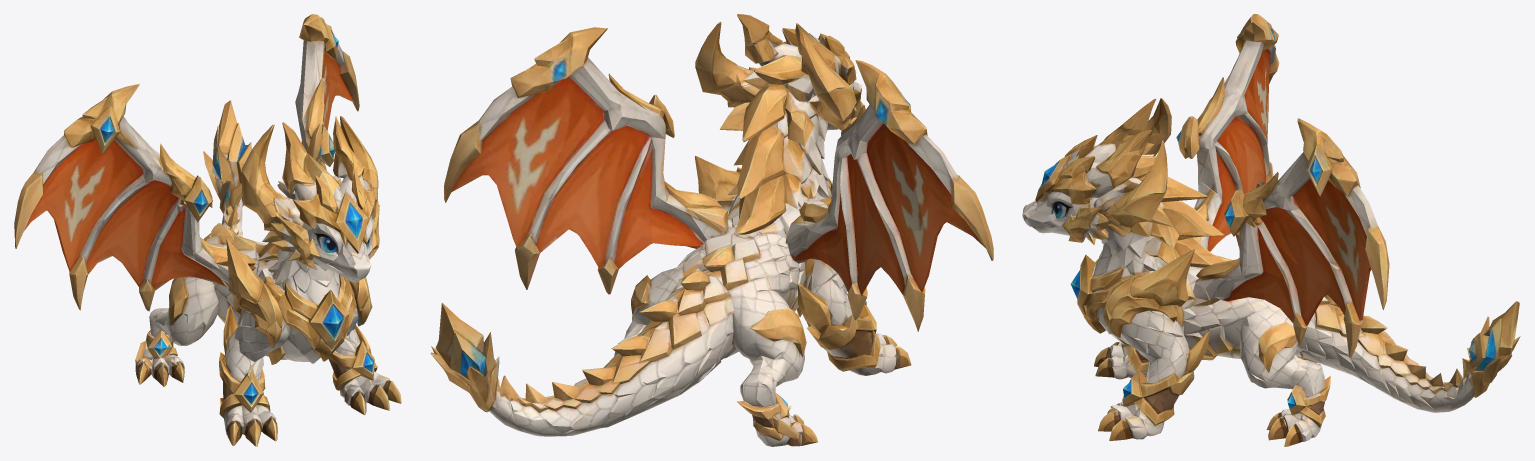
The model's file is dragonsteel-sky-dragon-v1.glb.
3 views of the same model, side by side, from view 1: azimuth 30°, elevation 25°; view 2: azimuth 150°, elevation 25°; view 3: azimuth 270°, elevation 25° (orthographic). The views are drawn at different scales.
Size of the model in its own units: 1.82 by 1.36 by 1.89.
Materials: 1 (1 with a texture image).
